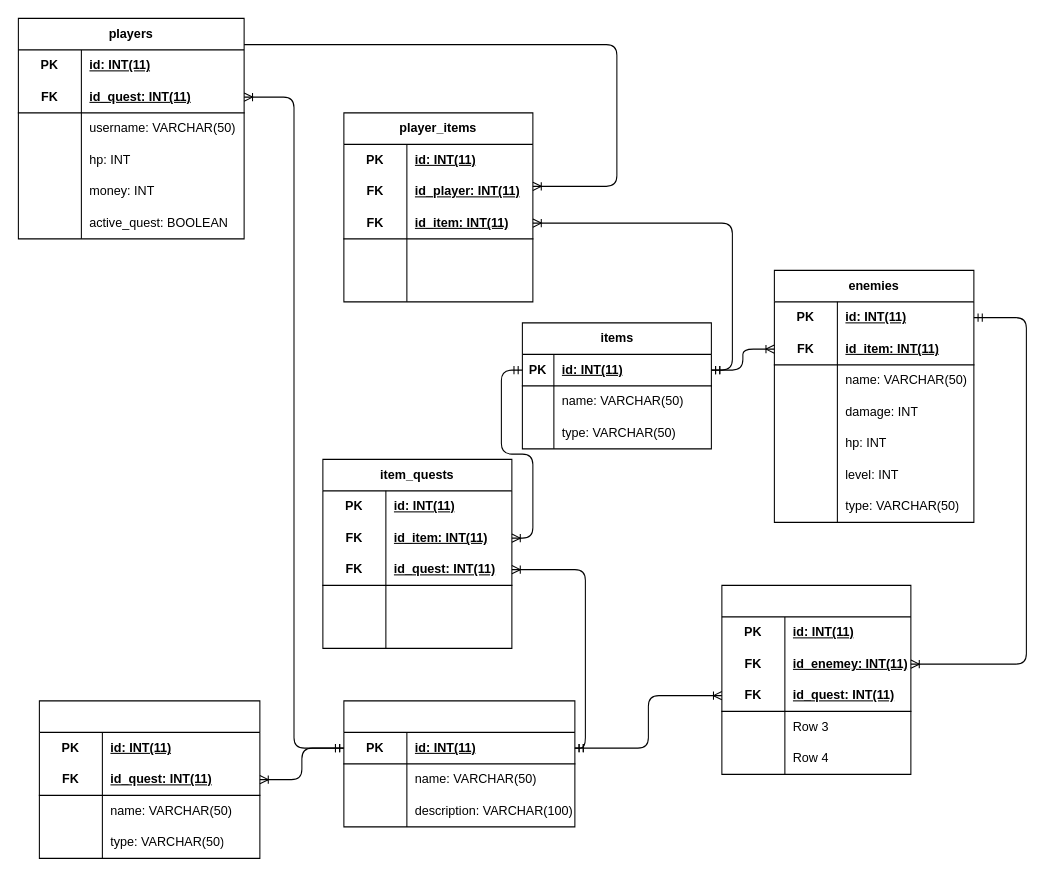
Image size: 1054x877. Some labels were removed from this diagram. The shapes that lost their labels are listed below. From the top down, each one's box as (x1, y1, x2, y2) in pixels, then its label:
(721, 584, 911, 774): enemy_quests
(38, 700, 260, 858): npcs
(343, 700, 575, 827): quests
